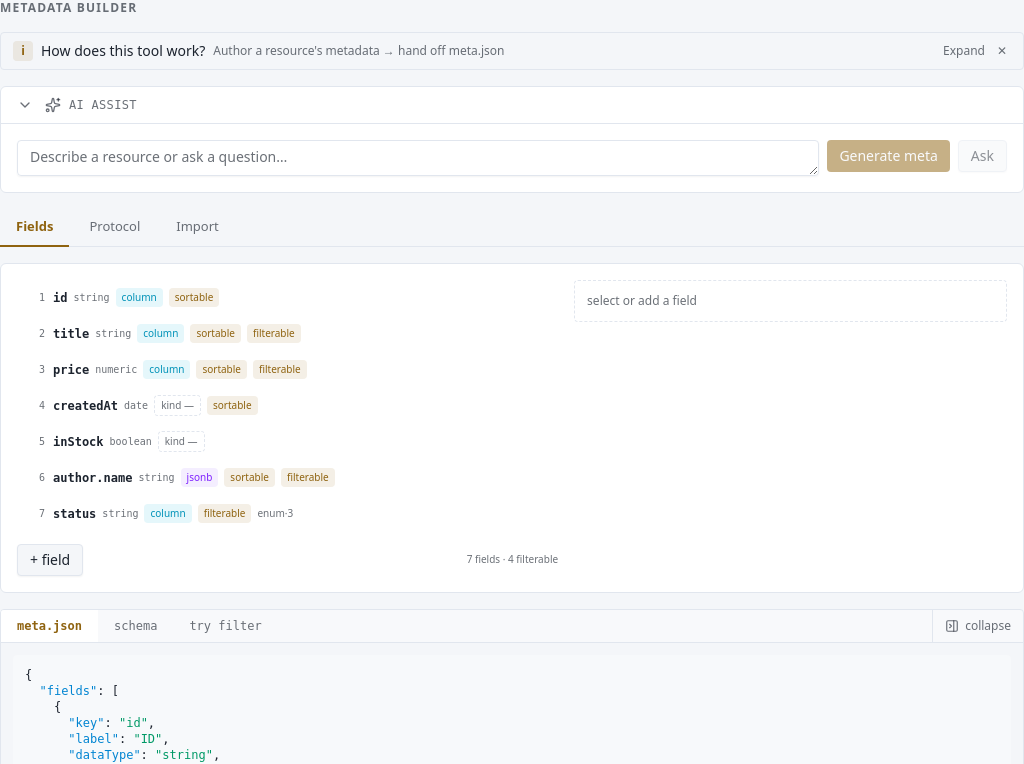
Test case: MetadataBuilderTool › editing a field key reflects into the preview json
Click the option "3 price numeric column sortable filterable" at (173, 370), box [39,360,307,379]
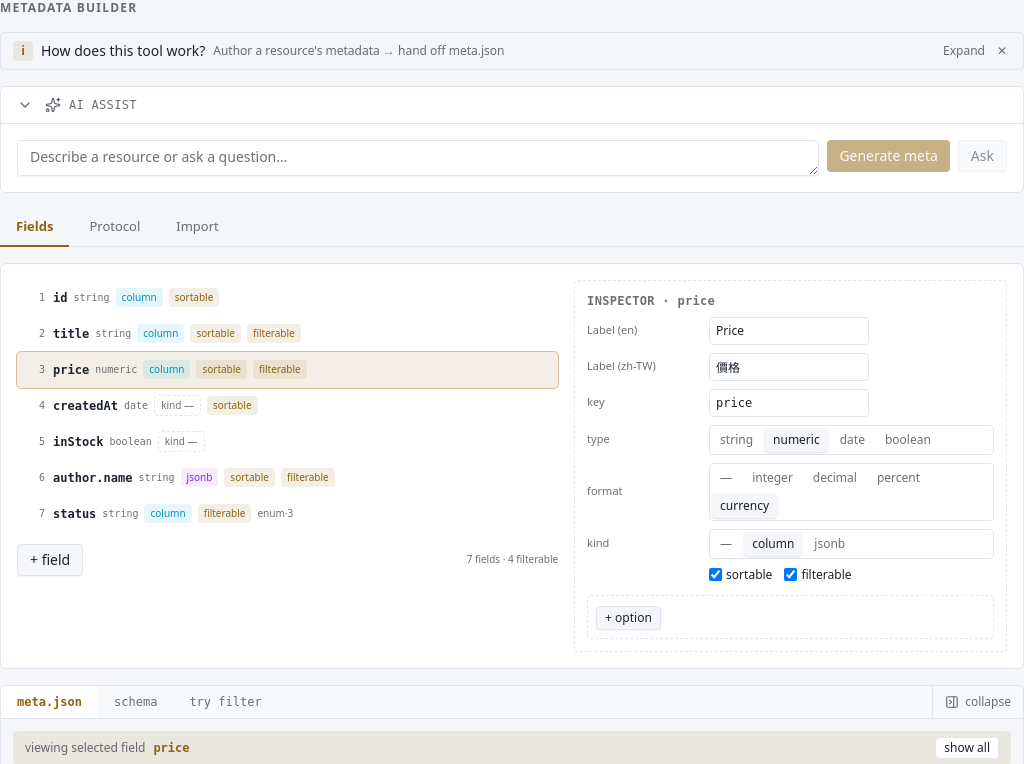
Replace the text in the field named "key" with "cost" at (789, 402), box [709,388,869,416]
(page scrolled)
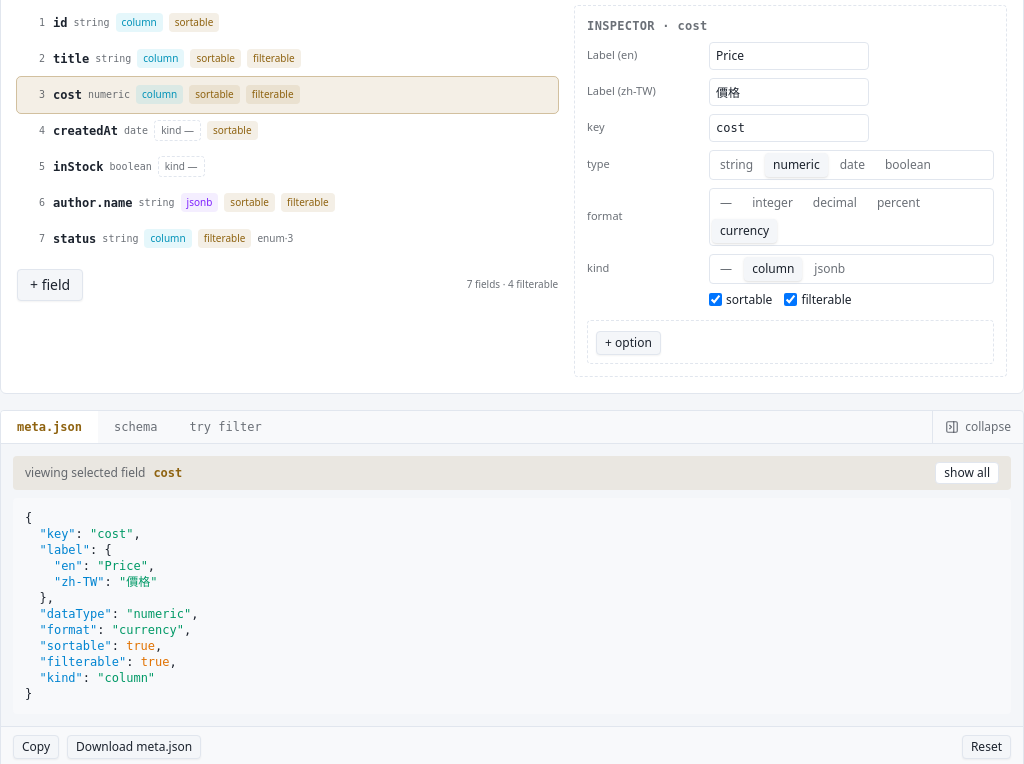
Check: the element with test id "meta-json" shows "\"key\": \"cost\"", box [13,498,1011,714]
